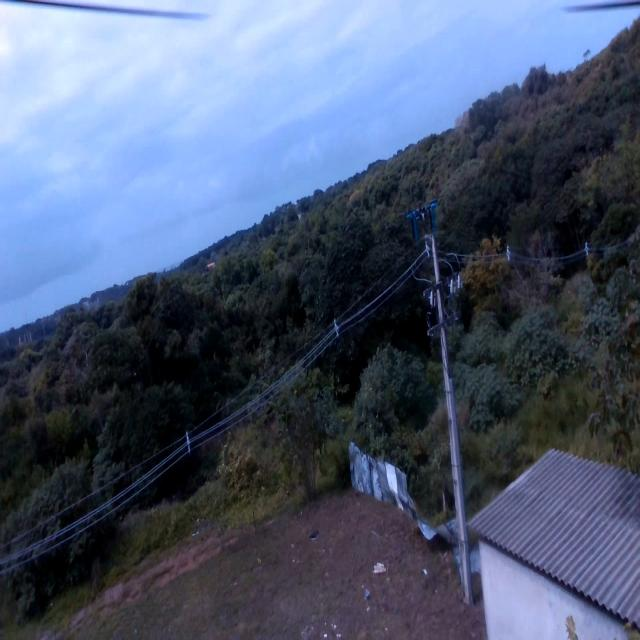-uav-: (399, 187, 441, 254)
